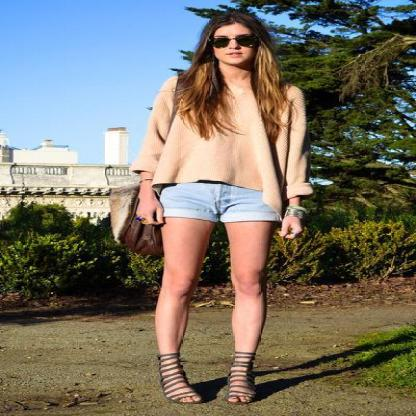bag: (101, 187, 165, 257)
jacket: (129, 76, 336, 207)
shoe: (153, 351, 286, 396)
shorts: (162, 182, 280, 222)
sunglass: (234, 33, 263, 53)
